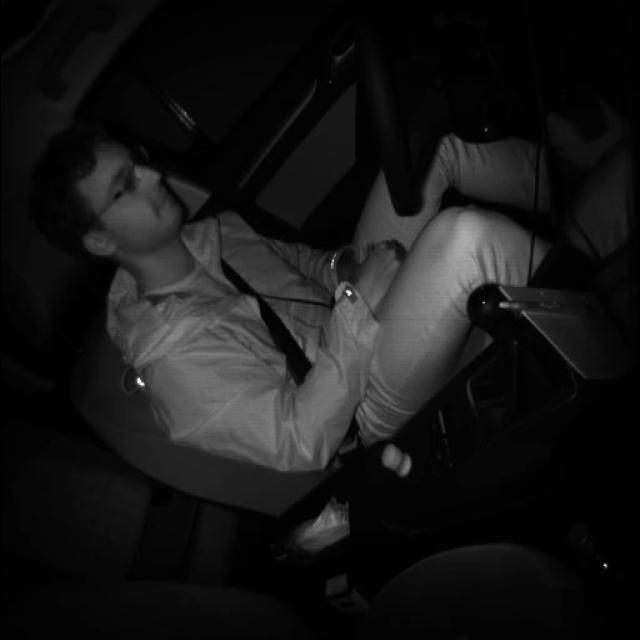pen: (498, 300, 596, 311)
